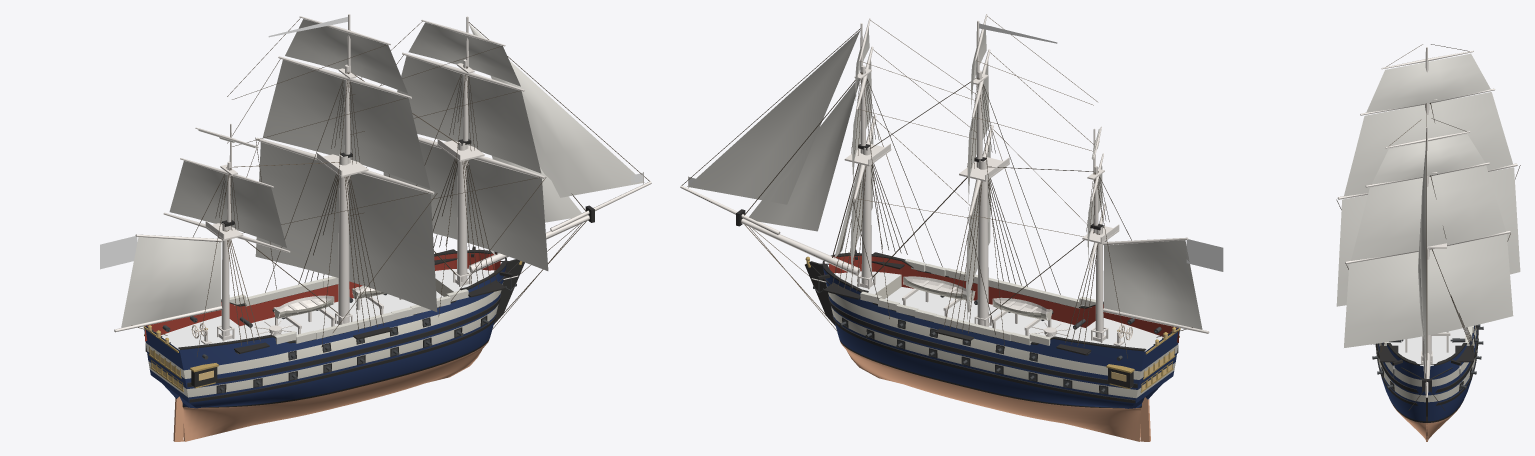
The model's file is frigate_lod1.glb.
3 views of the same model, side by side, from view 1: azimuth 30°, elevation 25°; view 2: azimuth 150°, elevation 25°; view 3: azimuth 270°, elevation 25° (orthographic). The views are drawn at different scales.
Visible parts, largest first — view 1: SM_Frigate_LOD1; view 2: SM_Frigate_LOD1; view 3: SM_Frigate_LOD1.
Boxes of the visible parts, x1=… form: SM_Frigate_LOD1: x1=100, y1=14, x2=651, y2=441; SM_Frigate_LOD1: x1=680, y1=14, x2=1223, y2=441; SM_Frigate_LOD1: x1=1336, y1=44, x2=1520, y2=441.
Size of the model in its own units: 51.19 by 29.7 by 14.27.
